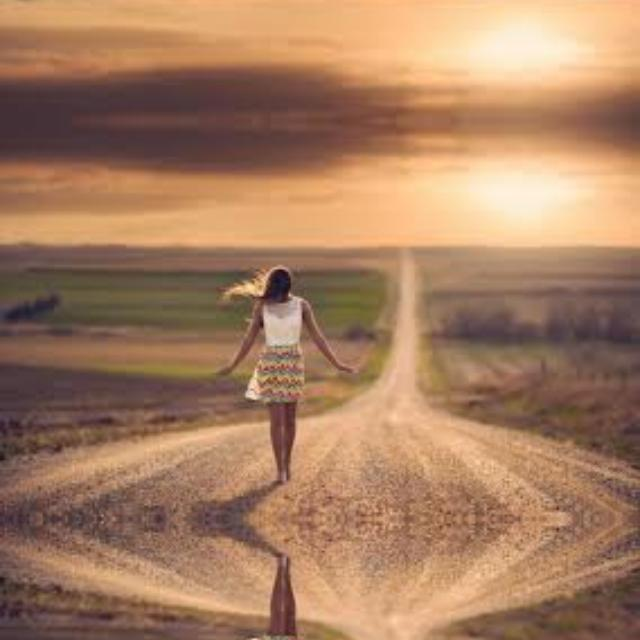person: (218, 253, 356, 499), (217, 539, 356, 640)
